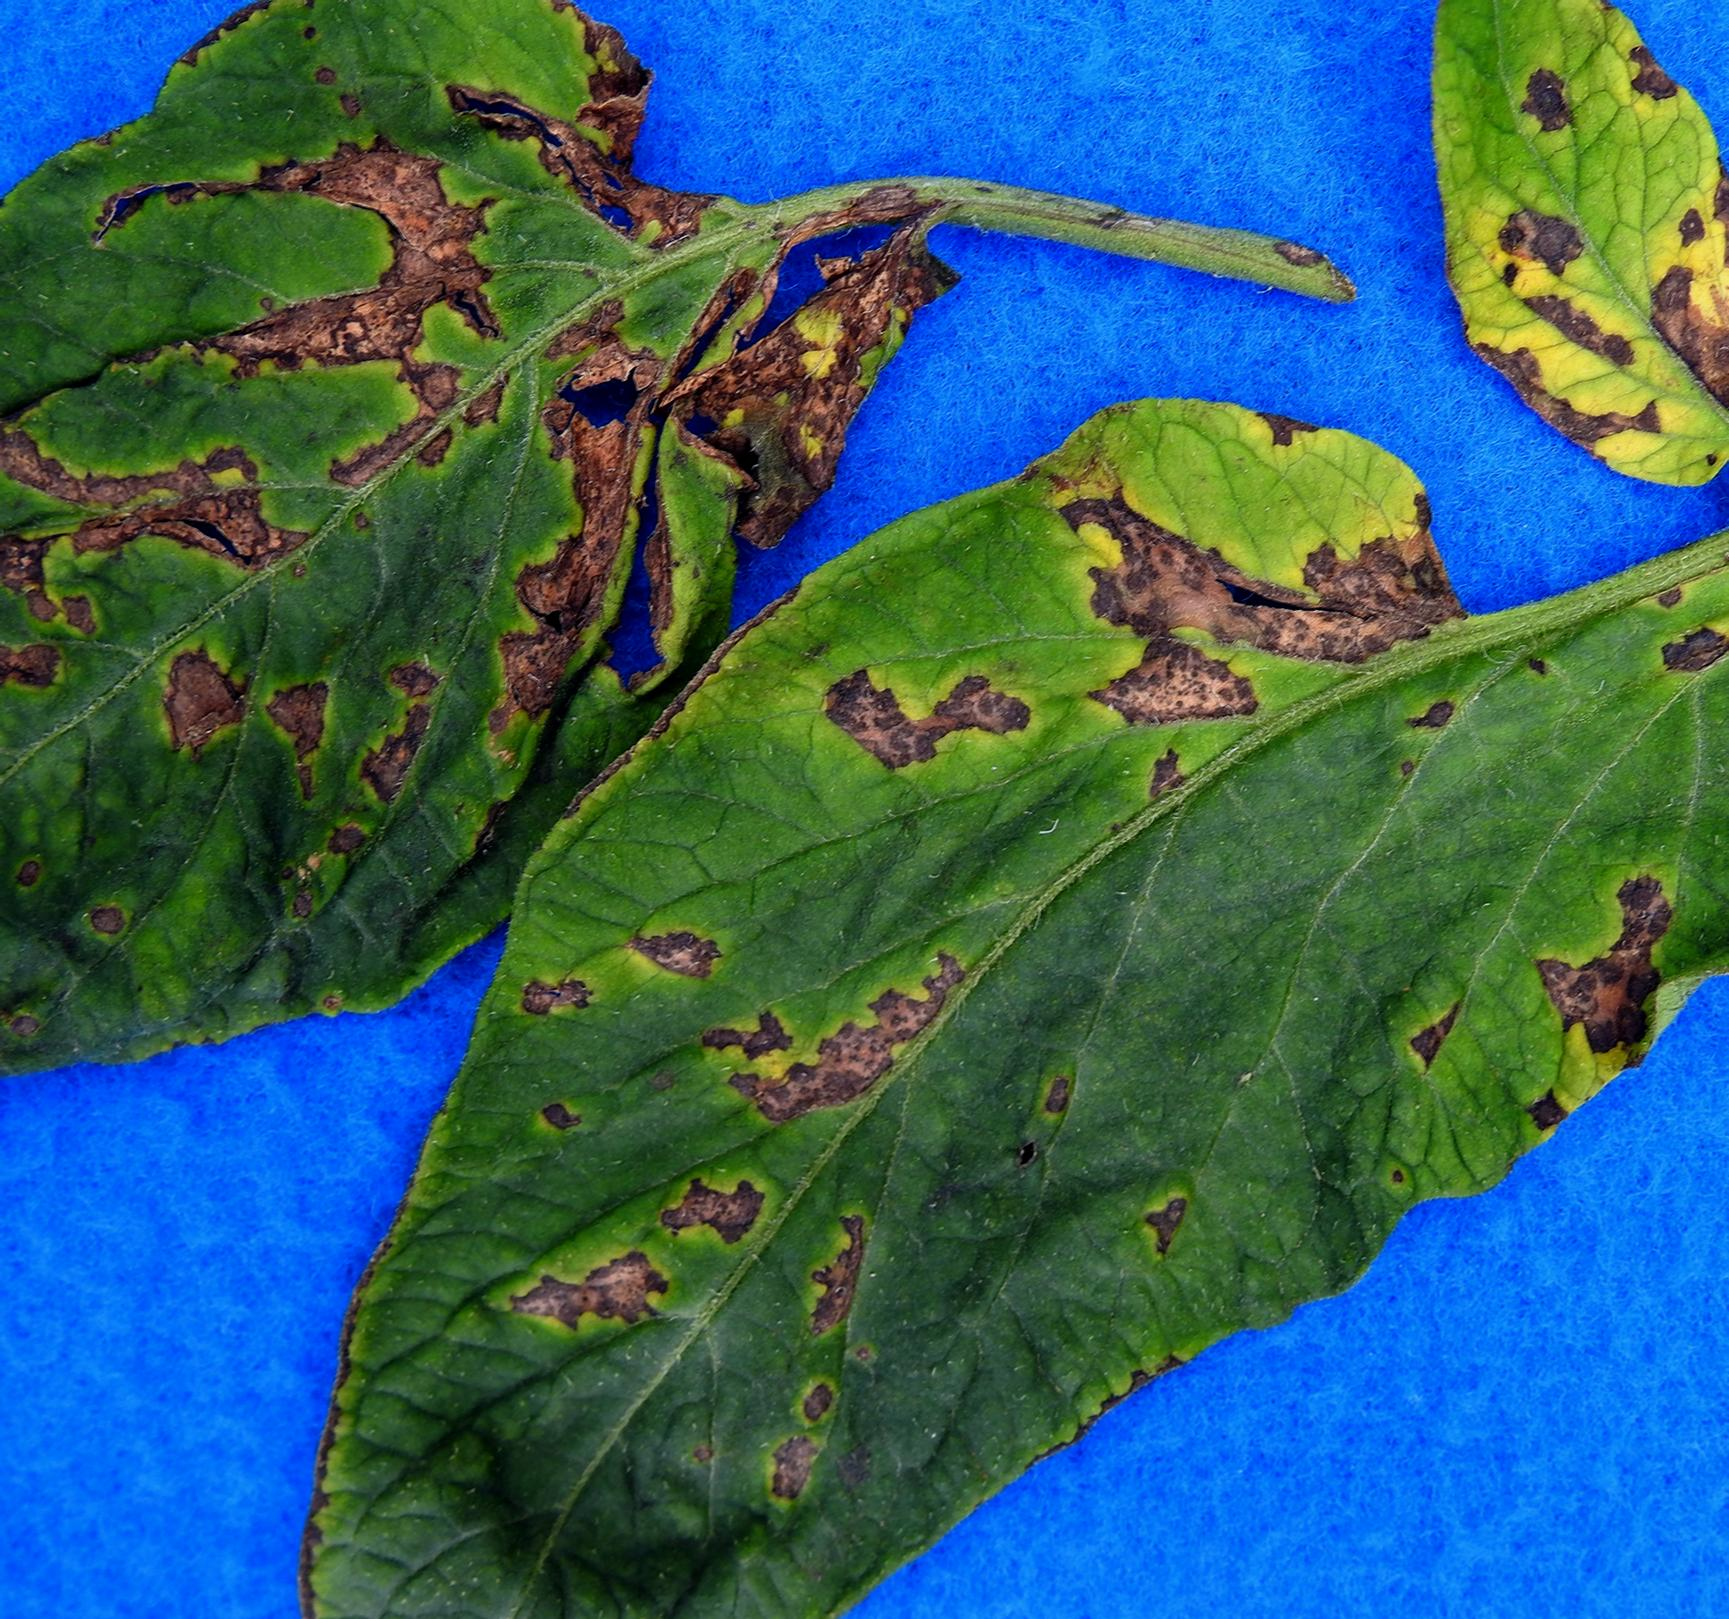Tomato leaf bacterial spot: (257, 332, 1729, 1619), (0, 0, 889, 1115), (1387, 0, 1729, 490)
